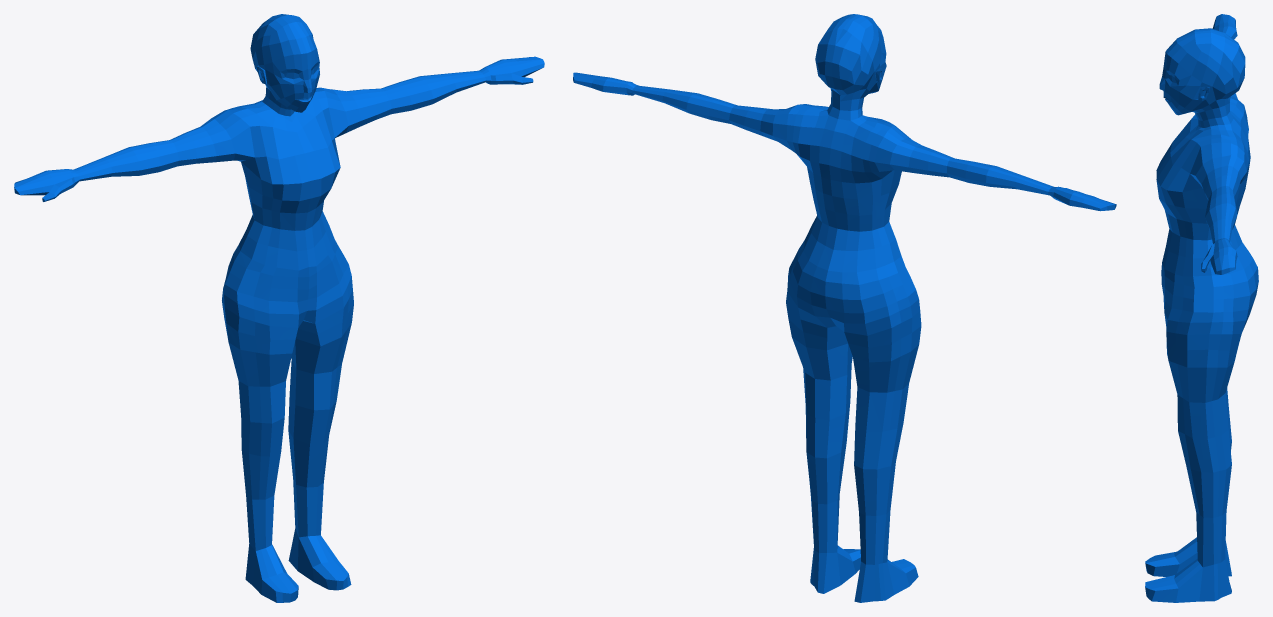
Rendered from t-pose.glb.
3 renders of one model, left to right at view 1: azimuth 30°, elevation 25°; view 2: azimuth 150°, elevation 25°; view 3: azimuth 270°, elevation 25°, orthographic. The views are drawn at different scales.
Parts seen in each view (by area): view 1: Mesh; view 2: Mesh; view 3: Mesh.
Boxes of the visible parts, bbox=[...] form: Mesh: bbox=[14, 14, 544, 602]; Mesh: bbox=[573, 14, 1116, 602]; Mesh: bbox=[1145, 14, 1258, 602].
Size of the model in its own units: 7.62 by 7.67 by 1.43.
